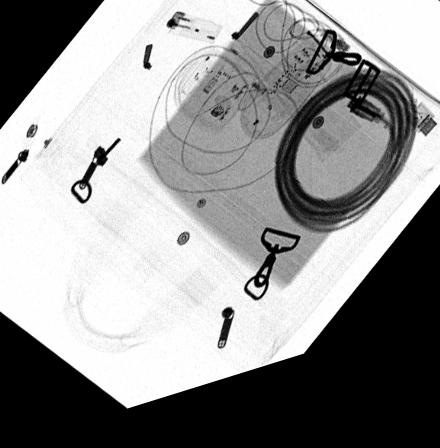Lighter: (164, 22, 222, 57)
